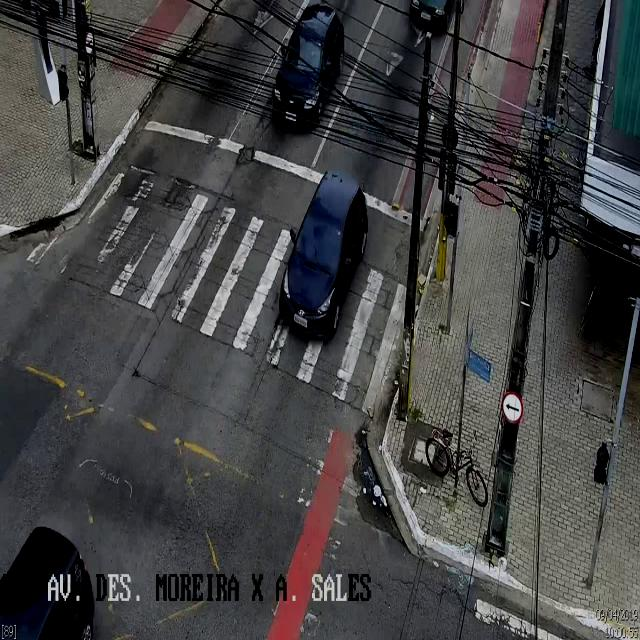Car: (280, 170, 368, 344), (0, 509, 109, 640), (273, 8, 344, 127), (407, 0, 465, 31)
